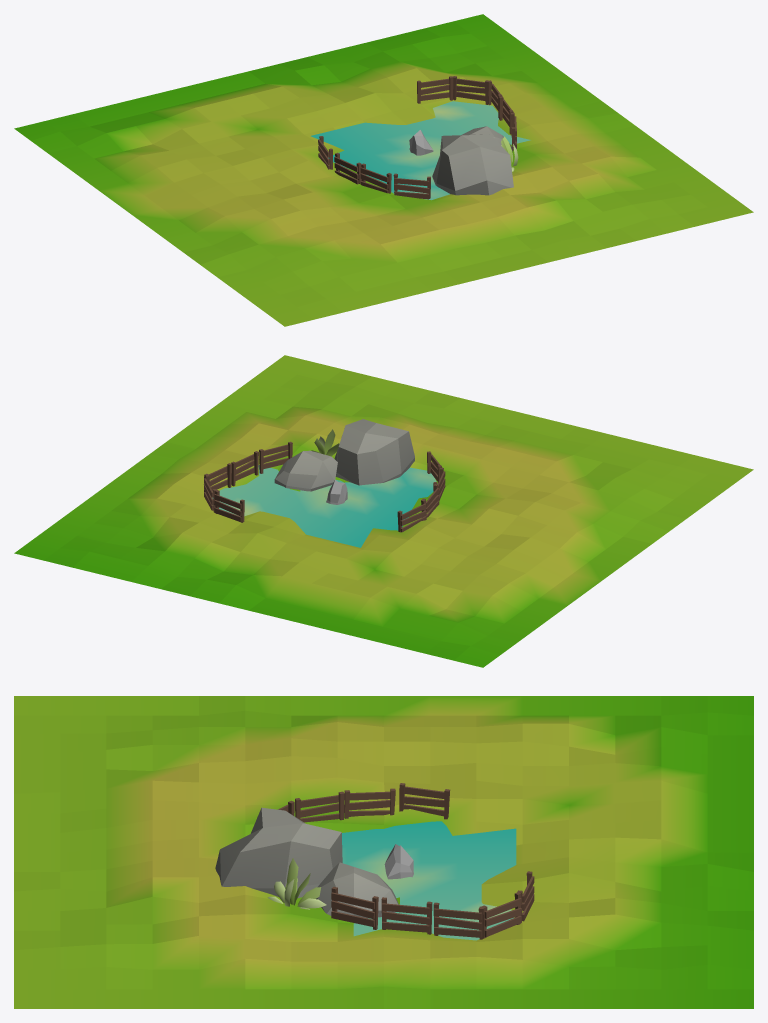
Rendered from Ground.gltf.
3 renders of one model, top to bottom at view 1: azimuth 30°, elevation 25°; view 2: azimuth 150°, elevation 25°; view 3: azimuth 270°, elevation 25°, orthographic. The views are drawn at different scales.
Parts seen in each view (by area): view 1: Plane, Plane.004, Cube_Cube.002, Cube.003_Cube.008, Cube.003_Cube.007, Cube.003_Cube.004; view 2: Plane, Plane.004, Cube_Cube.002, Cube_Cube.001, Cube.003_Cube.003, Cube.003_Cube.008, Cube.003_Cube.005; view 3: Plane, Plane.004, Cube_Cube.002, Cube_Cube.001, Cube.003_Cube.005, Cube.003_Cube.006, Cube.003_Cube.003, tree129.003, Cube.003_Cube.007, Cube_Cube.000.
Boxes of the visible parts, x1,y1,x2,y2 form: Plane: [14, 14, 753, 326]; Plane.004: [311, 101, 530, 200]; Cube_Cube.002: [432, 134, 513, 195]; Cube.003_Cube.008: [417, 76, 453, 103]; Cube.003_Cube.007: [453, 76, 488, 104]; Cube.003_Cube.004: [393, 173, 430, 199]; Plane: [14, 355, 753, 667]; Plane.004: [212, 465, 436, 547]; Cube_Cube.002: [334, 419, 414, 485]; Cube_Cube.001: [274, 450, 337, 491]; Cube.003_Cube.003: [259, 441, 292, 473]; Cube.003_Cube.008: [214, 490, 244, 522]; Cube.003_Cube.005: [231, 451, 258, 486]; Plane: [14, 696, 753, 1008]; Plane.004: [342, 821, 516, 940]; Cube_Cube.002: [215, 807, 342, 898]; Cube_Cube.001: [316, 862, 398, 918]; Cube.003_Cube.005: [381, 897, 432, 934]; Cube.003_Cube.006: [433, 902, 483, 939]; Cube.003_Cube.003: [331, 886, 378, 929]; tree129.003: [267, 858, 326, 909]; Cube.003_Cube.007: [481, 892, 521, 938]; Cube_Cube.000: [384, 844, 413, 879].
Size of the model in its own units: 10 by 1.38 by 10.
Materials: 3 (1 with a texture image).
